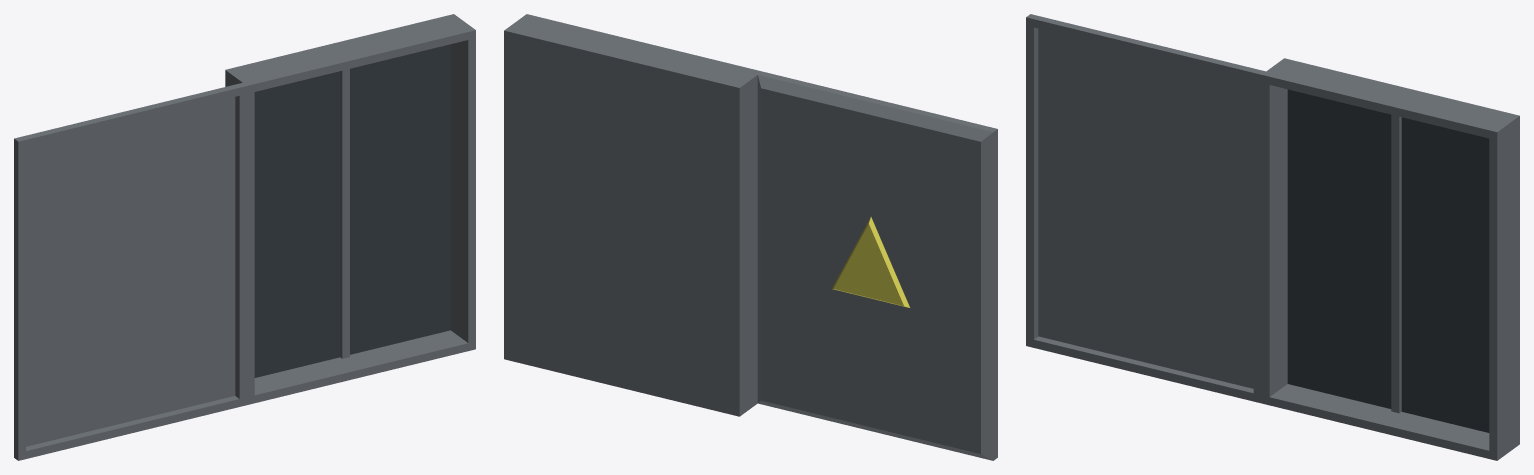
The model's file is Electrical box.fbx.
The picture shows the model from 3 angles, left to right: view 1: azimuth 30°, elevation 25°; view 2: azimuth 150°, elevation 25°; view 3: azimuth 330°, elevation 25°; orthographic projection. The views are drawn at different scales.
Parts seen in each view (by area): view 1: Cube.001, Cube; view 2: Cube.001, Cube; view 3: Cube.001, Cube.
Boxes of the visible parts, left/top/right/bottom form: Cube.001: left=225, top=14, right=475, bottom=404; Cube: left=14, top=82, right=247, bottom=460; Cube.001: left=504, top=14, right=761, bottom=416; Cube: left=757, top=71, right=997, bottom=460; Cube.001: left=1261, top=58, right=1519, bottom=460; Cube: left=1026, top=14, right=1265, bottom=403.
Bounding box in the file's own units: 1.2 × 0.8 × 0.1.
